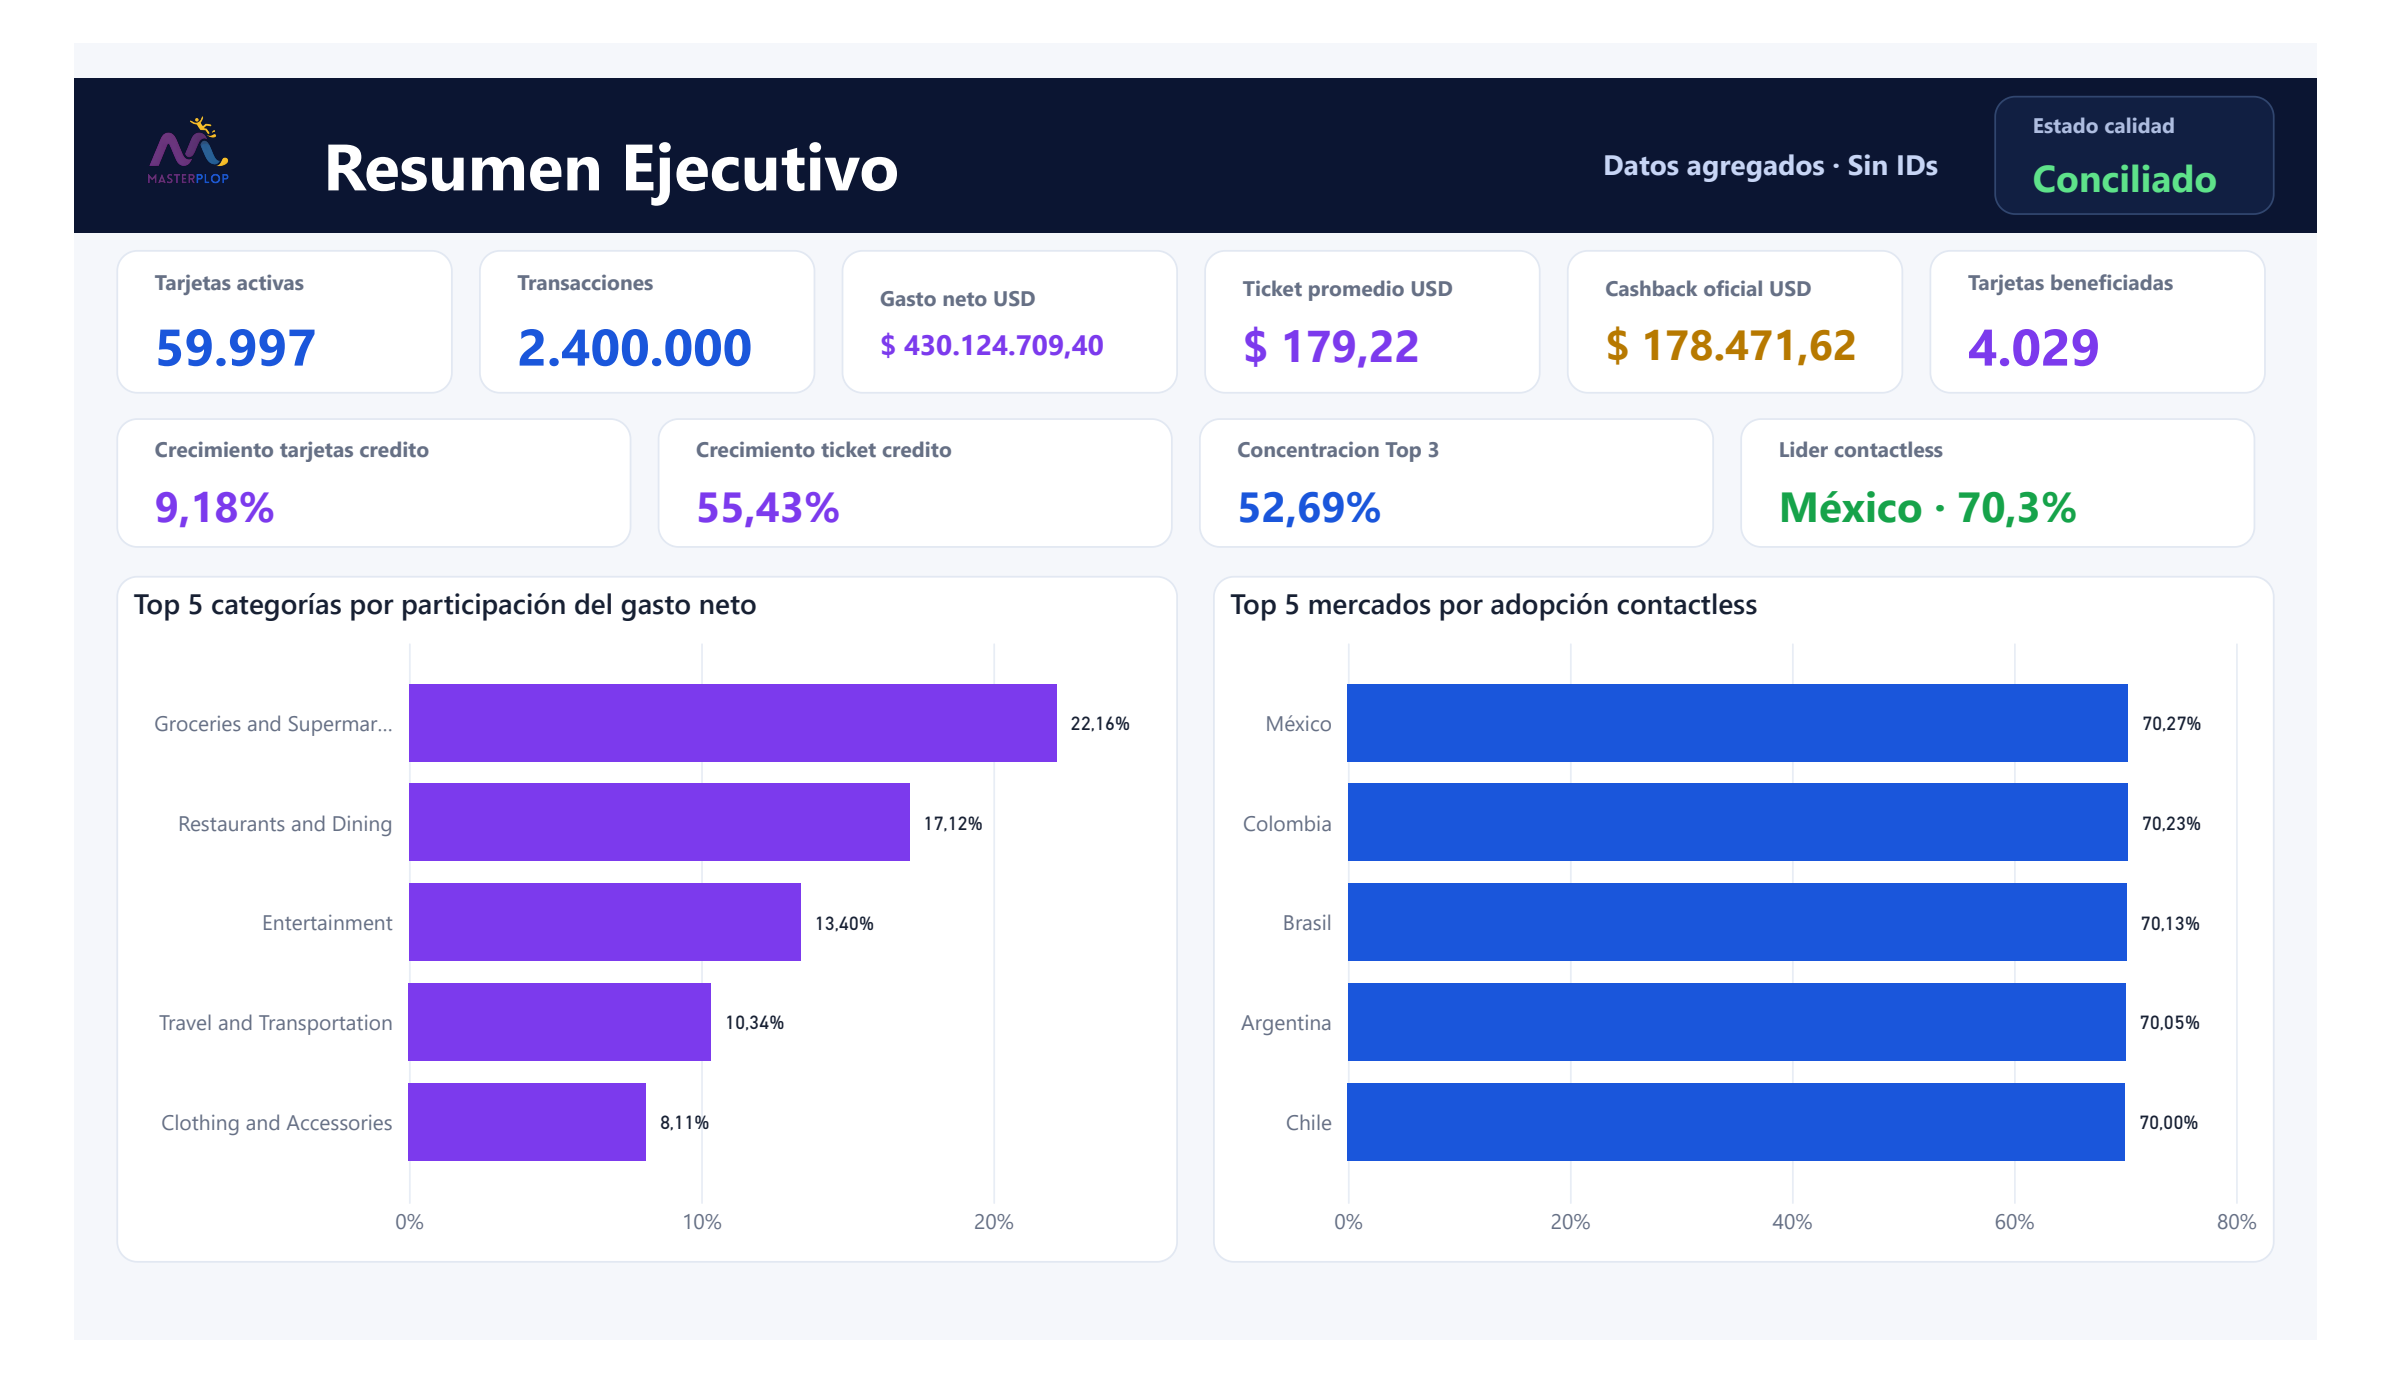

The page's visual inventory and layout, read from the dashboard file:
{"tool":"powerbi","page":{"name":"1 · Resumen Ejecutivo","canvas":[1280,720],"ordinal":0},"visuals":[{"type":"cardVisual","fields":{"Data":["executive.Fondo cabecera"]},"box":[0,0,1280,88],"z":0},{"type":"image","box":[20,9,90,70],"z":1},{"type":"cardVisual","fields":{"Data":["executive.Titulo resumen"]},"box":[124,6,680,76],"z":2},{"type":"cardVisual","fields":{"Data":["executive.Subtitulo general"]},"box":[816,10,266,68],"z":3},{"type":"cardVisual","title":"Calidad de datos","fields":{"Data":["executive.Estado calidad"]},"box":[1096,10,160,68],"z":4},{"type":"cardVisual","title":"Tarjetas activas","fields":{"Data":["executive.Tarjetas activas"]},"box":[24,98,192,82],"z":10},{"type":"cardVisual","title":"Transacciones","fields":{"Data":["executive.Transacciones"]},"box":[231,98,192,82],"z":11},{"type":"cardVisual","title":"Gasto neto USD","fields":{"Data":["executive.Gasto neto USD"]},"box":[438,98,192,82],"z":12},{"type":"cardVisual","title":"Ticket promedio USD","fields":{"Data":["executive.Ticket promedio USD"]},"box":[645,98,192,82],"z":13},{"type":"cardVisual","title":"Cashback mayo USD","fields":{"Data":["executive.Cashback oficial USD"]},"box":[852,98,192,82],"z":14},{"type":"cardVisual","title":"Beneficiadas","fields":{"Data":["executive.Tarjetas beneficiadas"]},"box":[1059,98,192,82],"z":15},{"type":"cardVisual","title":"Actividad crédito T2 vs T1","fields":{"Data":["executive.Crecimiento tarjetas credito"]},"box":[24,194,294,74],"z":20},{"type":"cardVisual","title":"Ticket crédito T2 vs T1","fields":{"Data":["executive.Crecimiento ticket credito"]},"box":[333,194,294,74],"z":21},{"type":"cardVisual","title":"Concentración Top 3","fields":{"Data":["executive.Concentracion Top 3"]},"box":[642,194,294,74],"z":22},{"type":"cardVisual","title":"Líder contactless","fields":{"Data":["executive.Lider contactless"]},"box":[951,194,294,74],"z":23},{"type":"clusteredBarChart","title":"Top 5 categorías por participación del gasto neto","fields":{"Category":["top_mcg_5.mcg_name"],"Y":["executive.Participacion MCG Top5"]},"box":[24,284,606,392],"z":30},{"type":"clusteredBarChart","title":"Top 5 mercados por adopción contactless","fields":{"Category":["contactless_5.issuer_country"],"Y":["executive.Adopcion contactless Top5"]},"box":[650,284,606,392],"z":31}]}

Visuals, with their boxes in screenshot pixels (x1, y1, x2, y2), scaled from the page's 1280x720 canvas onto the 2391x1383 screenshot:
cardVisual - executive.Fondo cabecera: (left=0, top=0, right=2390, bottom=169)
image: (left=37, top=17, right=205, bottom=152)
cardVisual - executive.Titulo resumen: (left=232, top=12, right=1502, bottom=158)
cardVisual - executive.Subtitulo general: (left=1524, top=19, right=2021, bottom=150)
"Calidad de datos" cardVisual: (left=2047, top=19, right=2346, bottom=150)
"Tarjetas activas" cardVisual: (left=45, top=188, right=403, bottom=346)
"Transacciones" cardVisual: (left=432, top=188, right=790, bottom=346)
"Gasto neto USD" cardVisual: (left=818, top=188, right=1177, bottom=346)
"Ticket promedio USD" cardVisual: (left=1205, top=188, right=1563, bottom=346)
"Cashback mayo USD" cardVisual: (left=1592, top=188, right=1950, bottom=346)
"Beneficiadas" cardVisual: (left=1978, top=188, right=2337, bottom=346)
"Actividad crédito T2 vs T1" cardVisual: (left=45, top=373, right=594, bottom=515)
"Ticket crédito T2 vs T1" cardVisual: (left=622, top=373, right=1171, bottom=515)
"Concentración Top 3" cardVisual: (left=1199, top=373, right=1748, bottom=515)
"Líder contactless" cardVisual: (left=1776, top=373, right=2326, bottom=515)
"Top 5 categorías por participación del gasto neto" clusteredBarChart: (left=45, top=546, right=1177, bottom=1298)
"Top 5 mercados por adopción contactless" clusteredBarChart: (left=1214, top=546, right=2346, bottom=1298)
